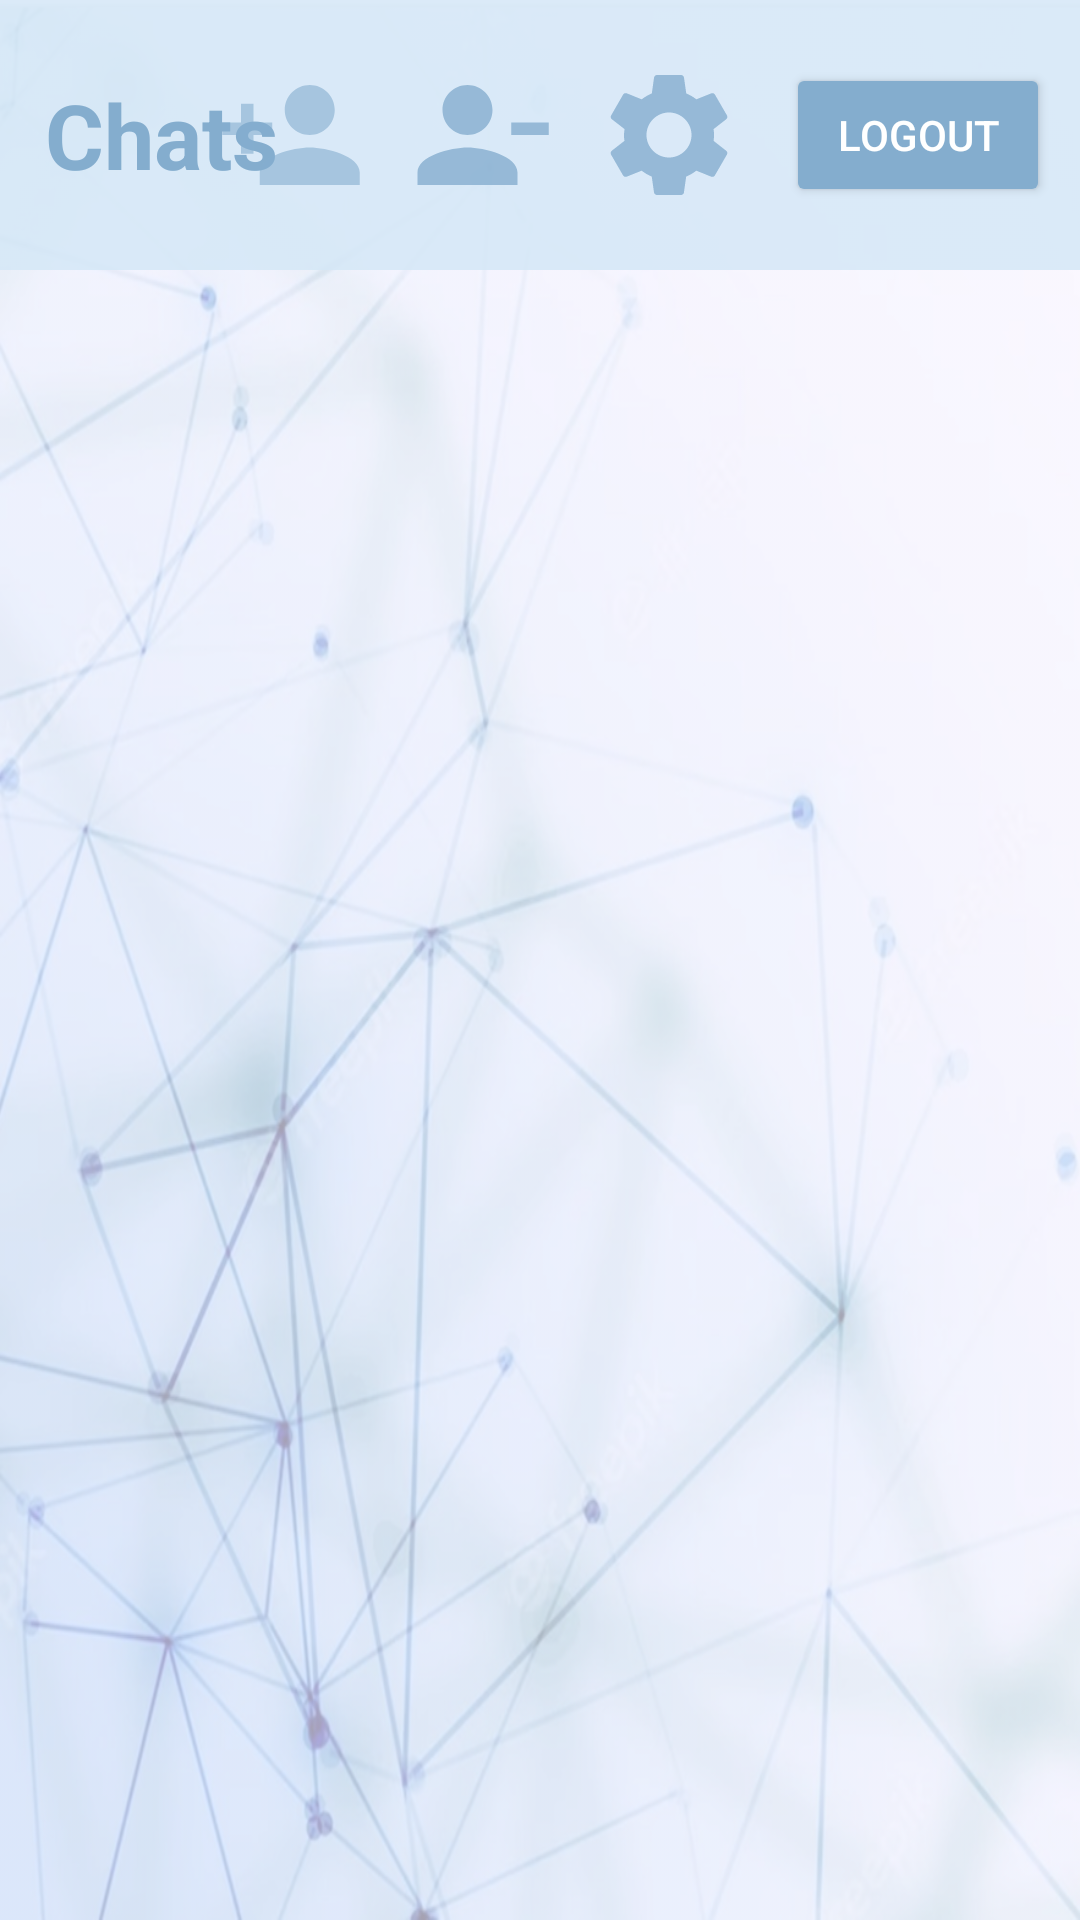

Icons on this 1080w x 1920h Android screen, each with its box as [left=x1, top=y1, right=x2, bottom=y2]:
remove contact button: [left=417, top=85, right=549, bottom=185]
settings button: [left=611, top=75, right=727, bottom=195]
